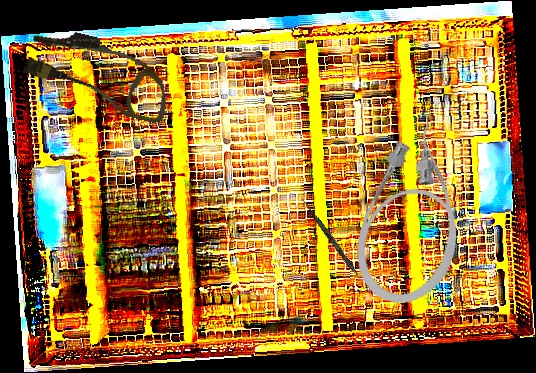Cannula: (343, 110, 489, 316), (18, 22, 179, 125)
Spatula Surgical: (298, 197, 373, 293)
